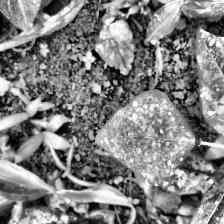Bean Rust: (95, 92, 188, 185), (197, 29, 224, 146), (190, 149, 224, 224)
